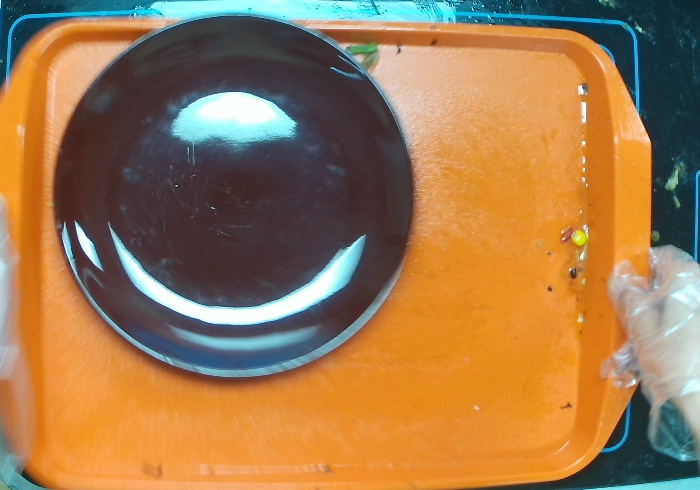HZYJPL-Ka_Fei_Yuan_Pan: (51, 10, 415, 379)
